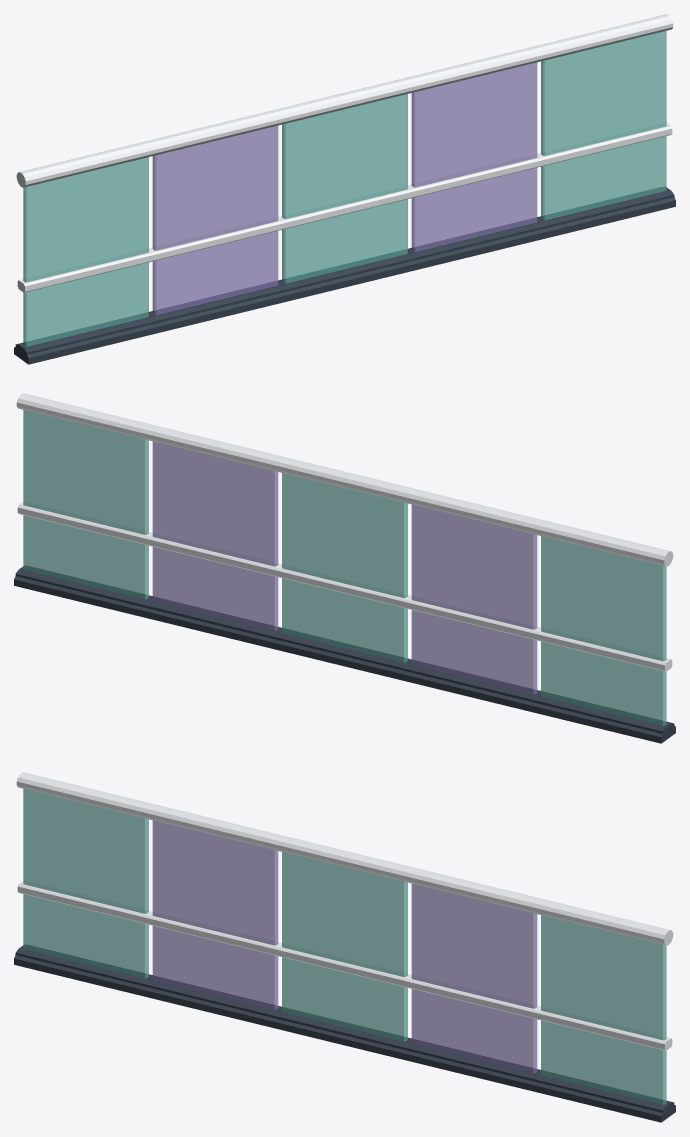
Rendered from balustrade-railing-run-2be0d5.glb.
The picture shows the model from 3 angles, top to bottom: view 1: azimuth 30°, elevation 25°; view 2: azimuth 150°, elevation 25°; view 3: azimuth 330°, elevation 25°; orthographic projection.
Parts seen in each view (by area): view 1: panes, frame, pane-mesh; view 2: panes, frame, pane-mesh; view 3: panes, frame, pane-mesh.
Part boxes in pixels (x1,y1,x2,y2): panes: (23,31,666,346); frame: (14,14,675,364); pane-mesh: (282,94,407,283); panes: (23,410,666,725); frame: (14,393,675,743); pane-mesh: (282,473,407,662); panes: (23,789,666,1104); frame: (14,772,675,1122); pane-mesh: (282,852,407,1041).
Bounding box in the file's own units: 4 × 1.1 × 0.156.
